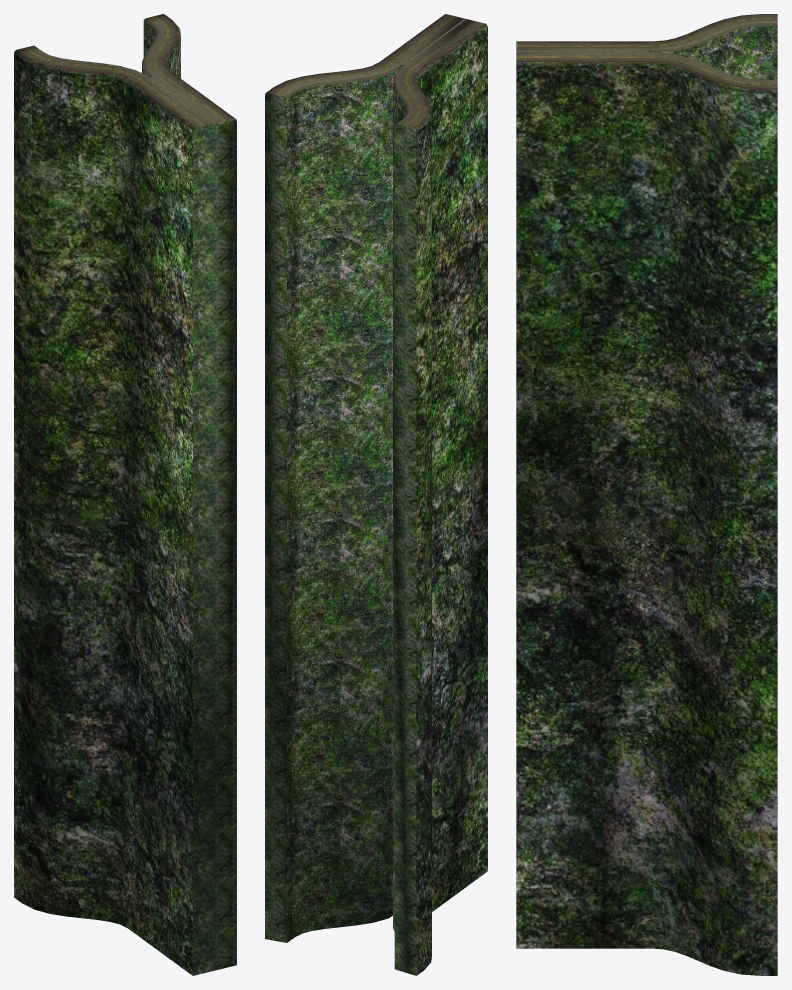
Rendered from Splited ramp.fbx.
3 renders of one model, left to right at view 1: azimuth 30°, elevation 25°; view 2: azimuth 150°, elevation 25°; view 3: azimuth 270°, elevation 25°, orthographic. The views are drawn at different scales.
Parts seen in each view (by area): view 1: Splited ramp; view 2: Splited ramp; view 3: Splited ramp.
Part boxes in pixels (x1,y1,x2,y2): Splited ramp: (14, 14, 236, 975); Splited ramp: (265, 14, 487, 975); Splited ramp: (516, 14, 777, 975).
Bounding box in the file's own units: 1410 × 7539 × 2018.
